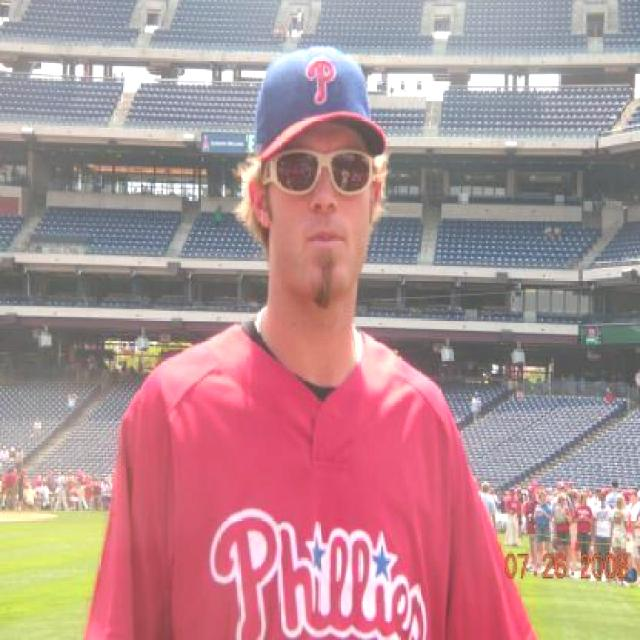face_nomask: (272, 143, 368, 260)
glasses: (274, 138, 386, 193)
head_nohelmet: (248, 45, 388, 157)
person: (94, 40, 512, 640)
